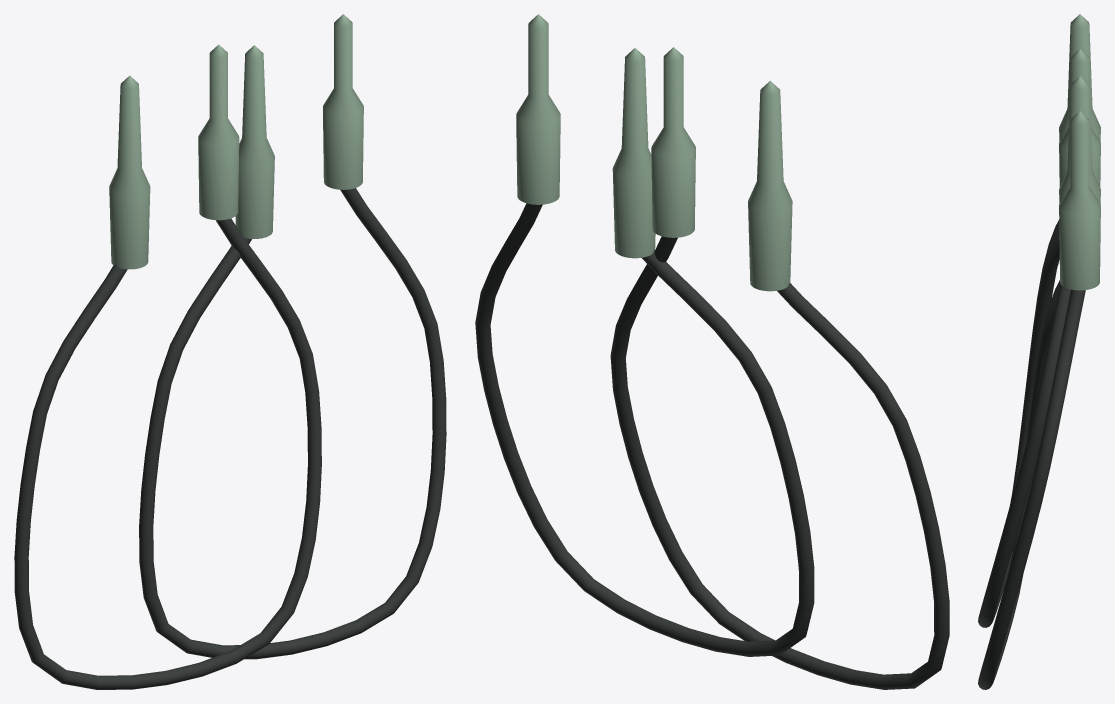
The model's file is abandoned-telephone-exchange-twin-cord-patch-pair-c3cd9bf8__31978.glb.
3 renders of one model, left to right at view 1: azimuth 30°, elevation 25°; view 2: azimuth 150°, elevation 25°; view 3: azimuth 270°, elevation 25°, orthographic. The views are drawn at different scales.
Parts seen in each view (by area): view 1: twin-cord-patch-pair; view 2: twin-cord-patch-pair; view 3: twin-cord-patch-pair.
Part boxes in pixels (box(x1,y1,x2,y2)): twin-cord-patch-pair: box(14, 14, 446, 689); twin-cord-patch-pair: box(475, 14, 949, 689); twin-cord-patch-pair: box(978, 14, 1100, 689).
Size of the model in its own units: 0.4832 by 0.6297 by 0.1172.
